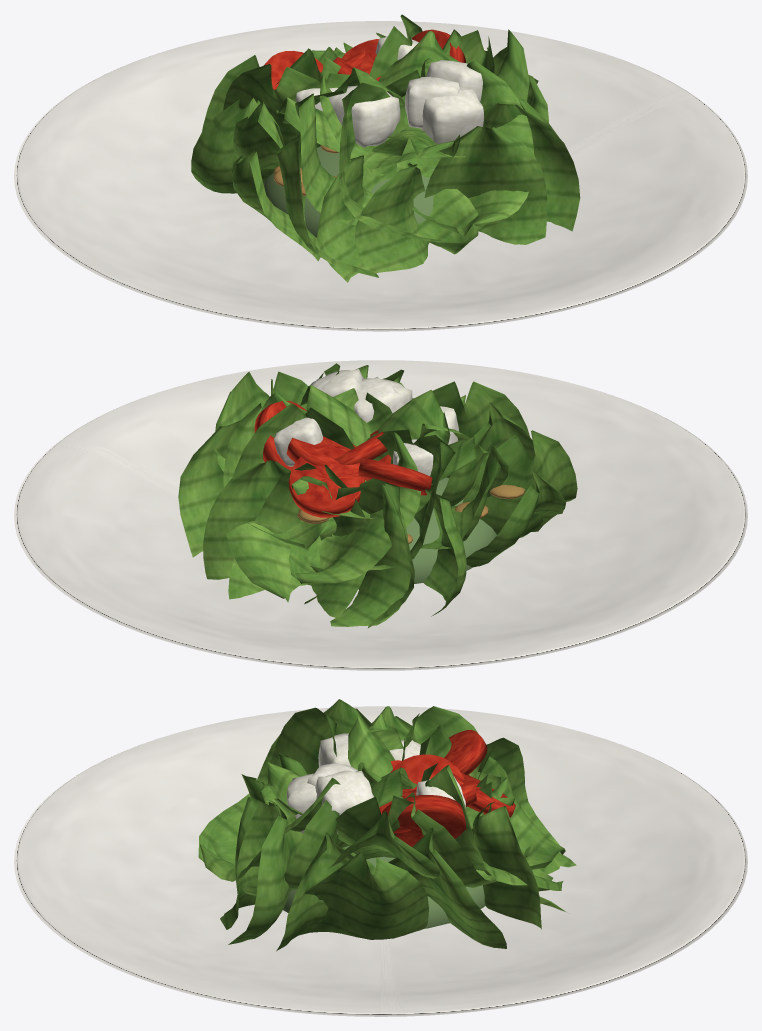
Rendered from ensalada-casa.glb.
3 views of the same model, one above another, from view 1: azimuth 30°, elevation 25°; view 2: azimuth 150°, elevation 25°; view 3: azimuth 270°, elevation 25° (orthographic).
Bounding box in the file's own units: 0.21 × 0.0622 × 0.21.
Materials: 6 (4 with a texture image).
